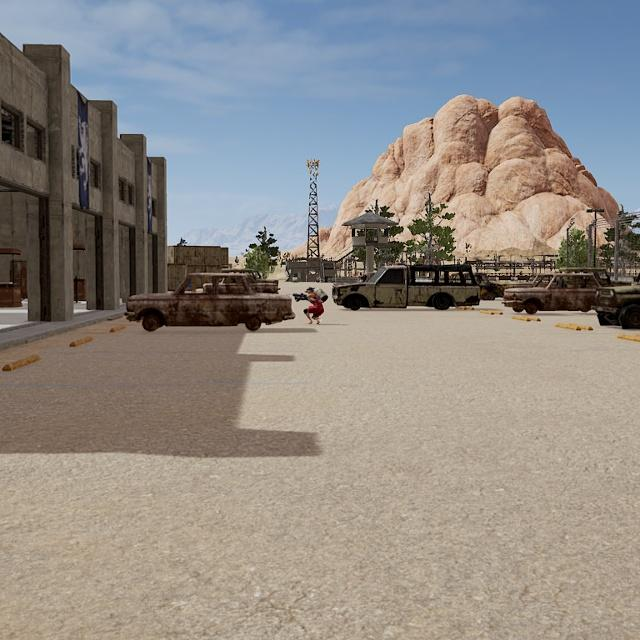head: (306, 286, 314, 295)
people: (302, 286, 324, 327)
